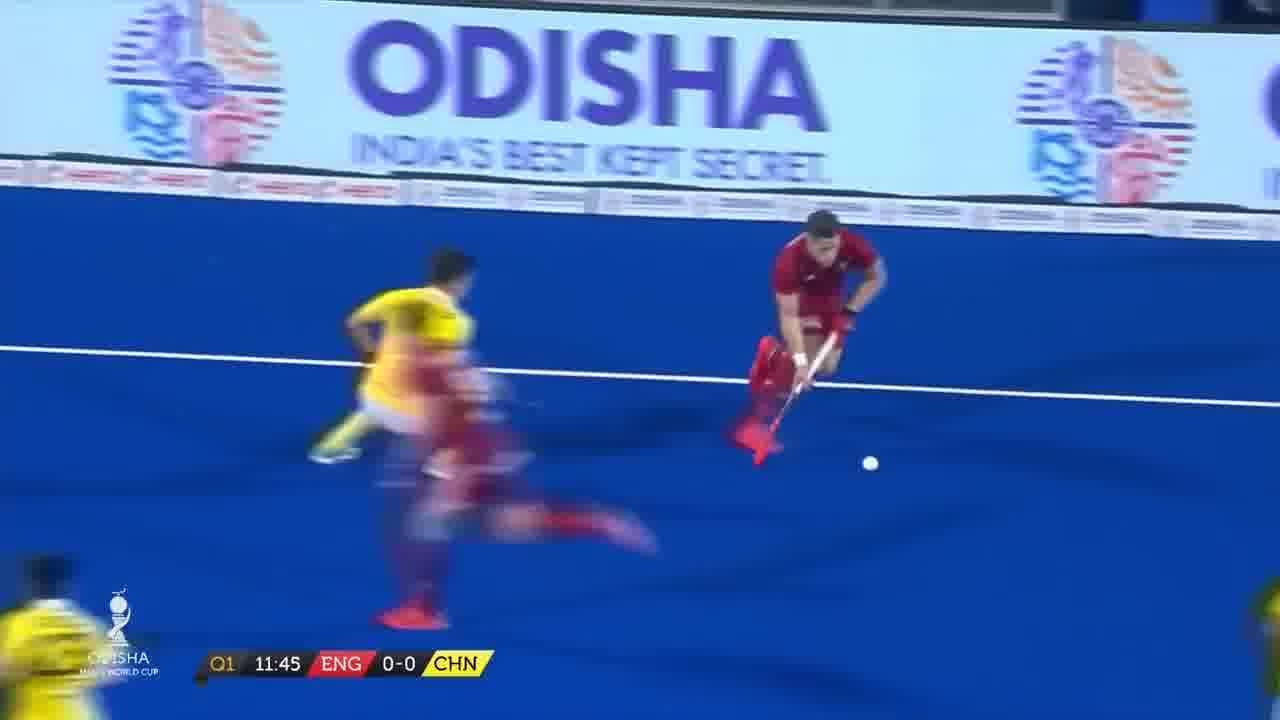ball: (853, 443, 887, 475)
